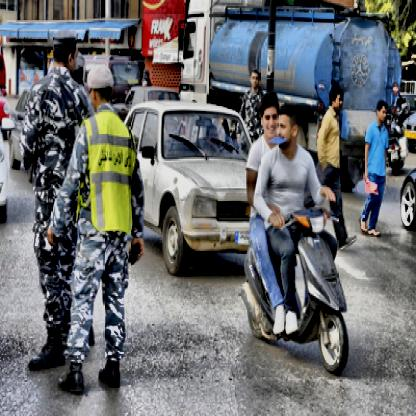not_wear: (89, 64, 110, 112), (54, 30, 76, 69), (280, 110, 296, 154), (260, 96, 278, 134), (331, 86, 347, 116), (251, 68, 262, 88), (378, 103, 387, 122)
